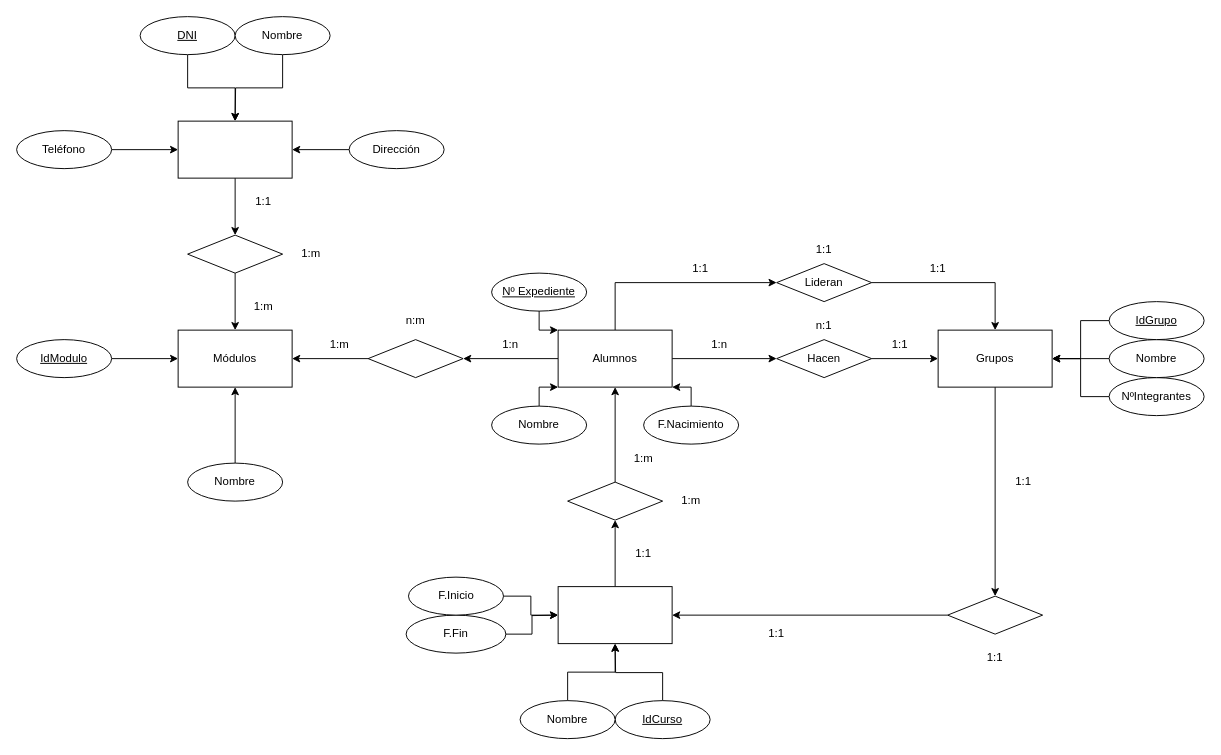
This 1221x755 diagram has some shape labels left out. The centre of each missing label's shape, as x and y in pixels:
"Contienen" goes at (x=615, y=500).
"Cursan" goes at (x=415, y=358).
"Cursos" goes at (x=614, y=615).
"Imparten" goes at (x=235, y=253).
"Pertenecen" goes at (x=995, y=614).
"Profesores" goes at (x=234, y=149).
